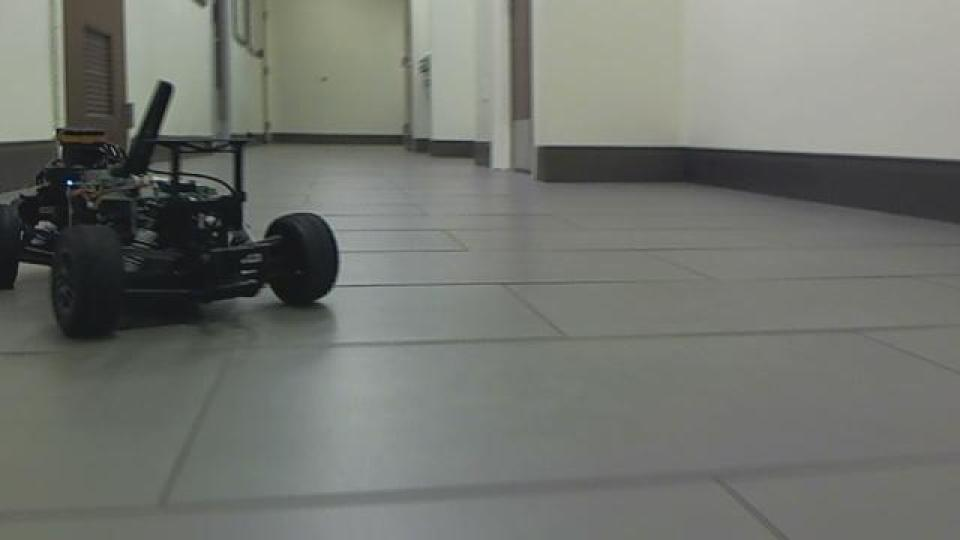car: (2, 77, 342, 340)
